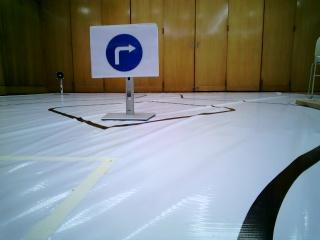right: (93, 29, 156, 72)
